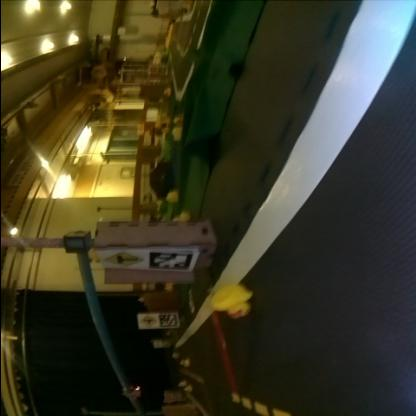Duckie: (212, 285, 250, 319), (172, 213, 190, 223), (166, 191, 178, 202)
Intersection sign: (102, 251, 140, 268), (138, 316, 156, 328)
QR code: (146, 252, 192, 272), (159, 314, 175, 328)
Traffic light: (122, 387, 140, 398)
